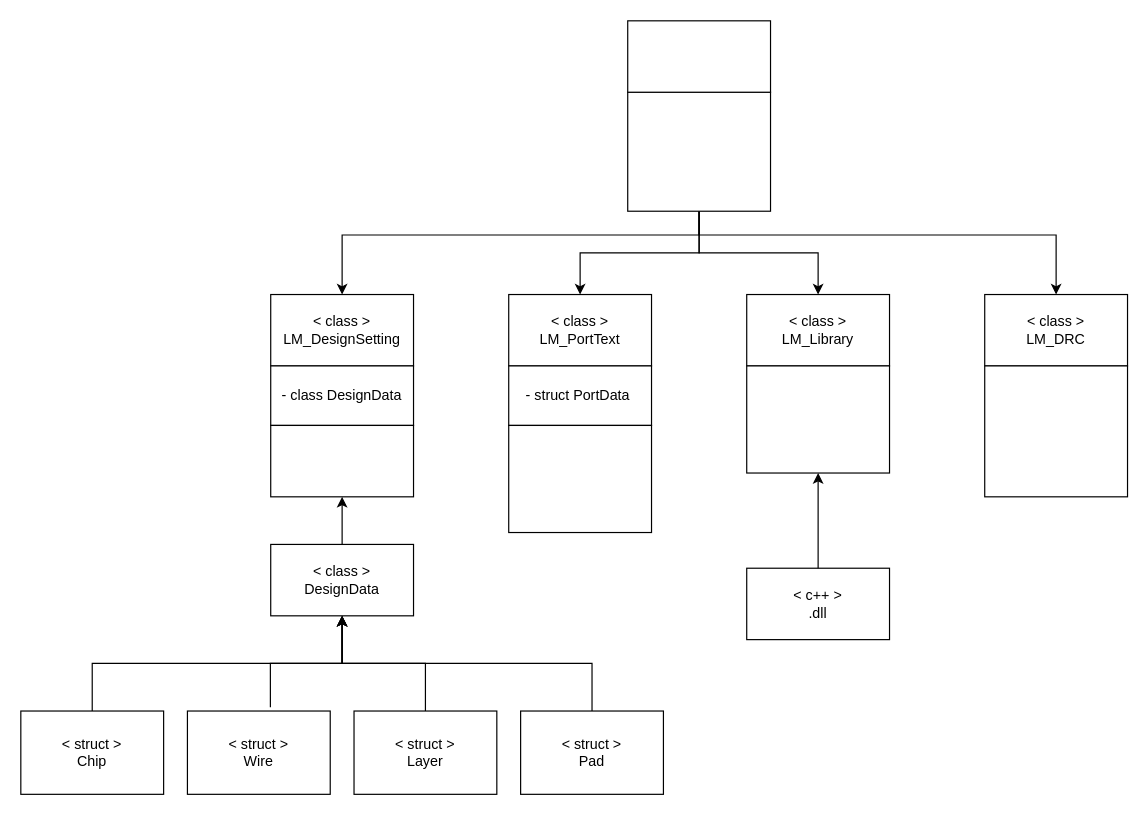
This 1148x815 diagram has some shape labels left out. The centre of each missing label's shape, as x and y in pixels:
+ CreateDiniFile() + ReadDiniFile(): the point at 342,460
+ ReadPortText() + ReadPiniFile() + ImportFromCAD() + ExportToCAD(): the point at 580,478
< namespace > DesinSetting PortText Library DRC: the point at 699,151
DRC_CheckBom DRC_Check.. . . .: the point at 1056,431
namespace LayoutManager: the point at 699,56
ResistLirary() UpdateLibrary() DeleteLibrary() CreateBackup(): the point at 818,419
